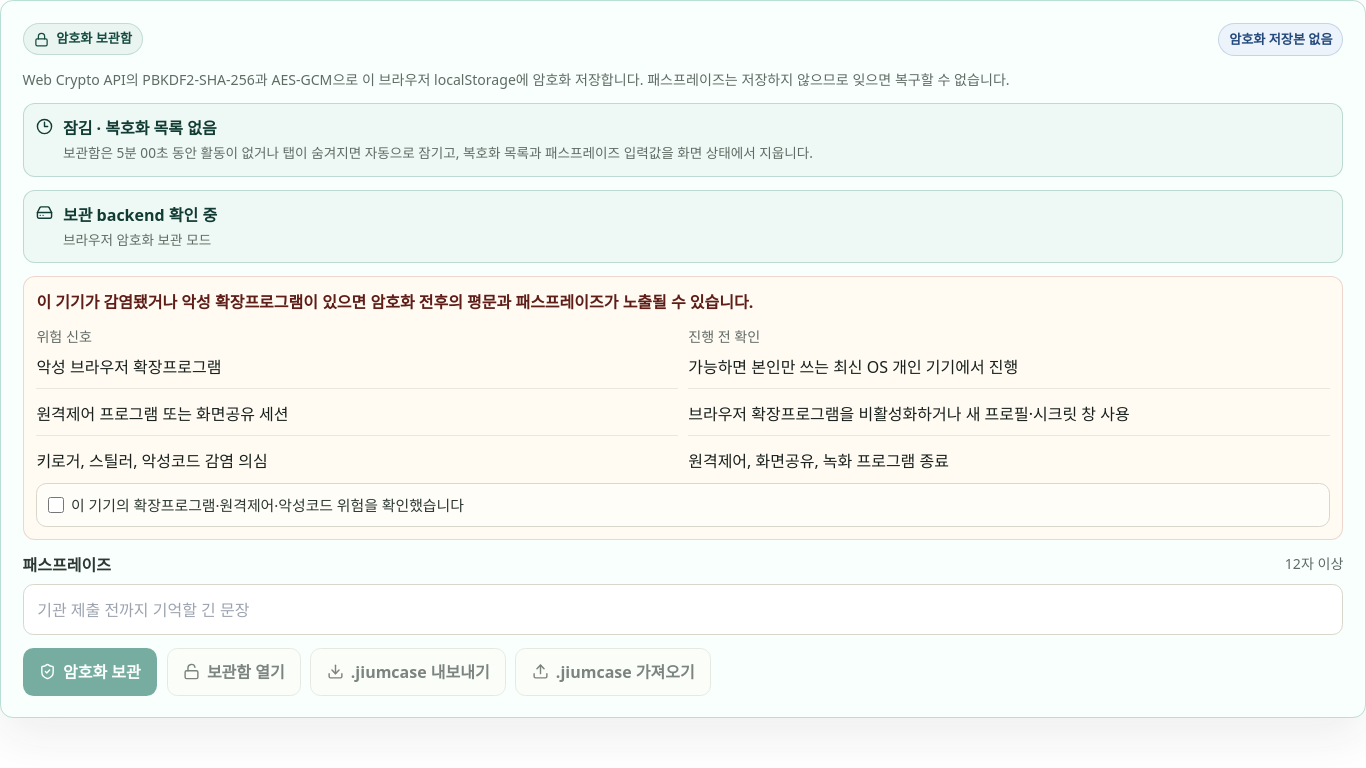
Test case: EncryptedVaultPanel › clears decrypted cases and passphrase when the user locks the vault
Step 1. Click the checkbox labelled "이 기기의 확장프로그램·원격제어·악성코드 위험을 확인했습니다" → (56, 505), box left=48, top=497, right=64, bottom=513
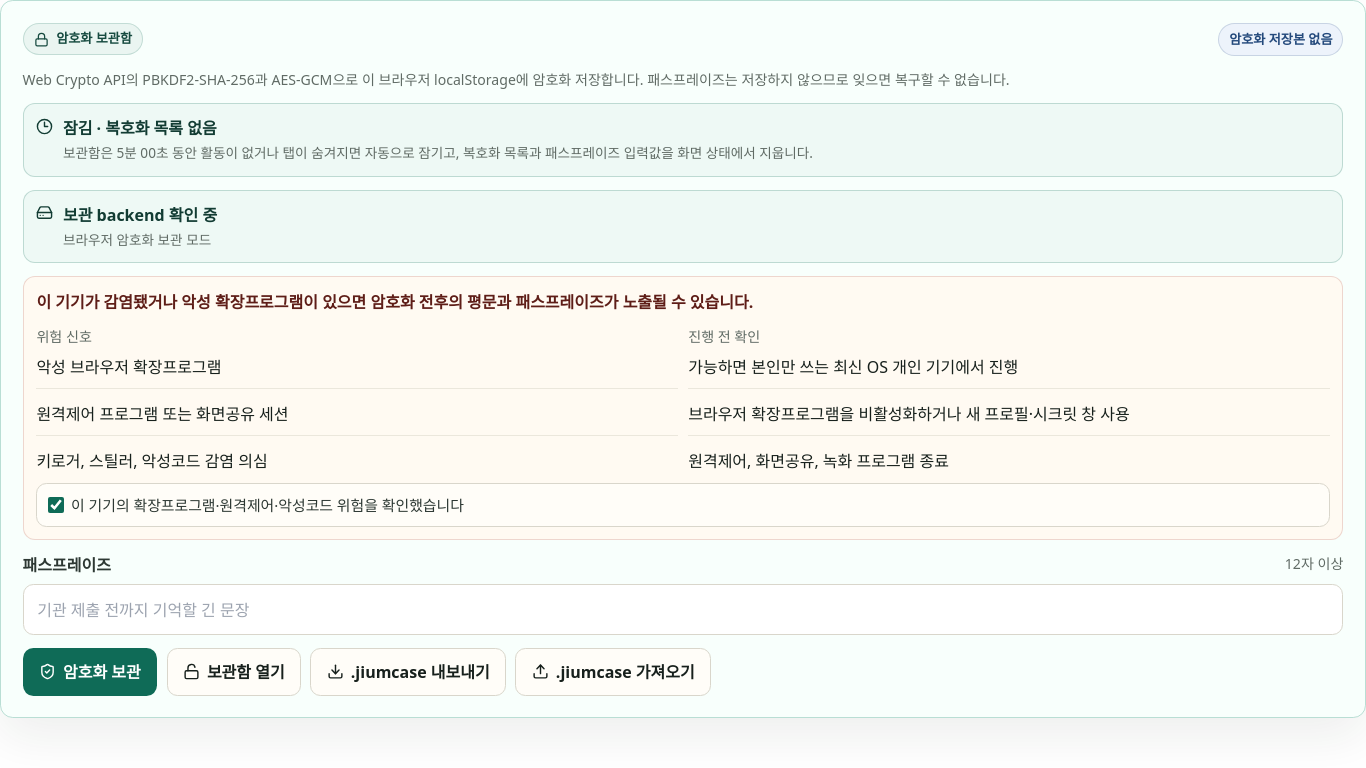
Step 2. Type "long passphrase for vault" into the password field with placeholder "기관 제출 전까지 기억할 긴 문장" → (683, 610), box left=23, top=584, right=1343, bottom=635
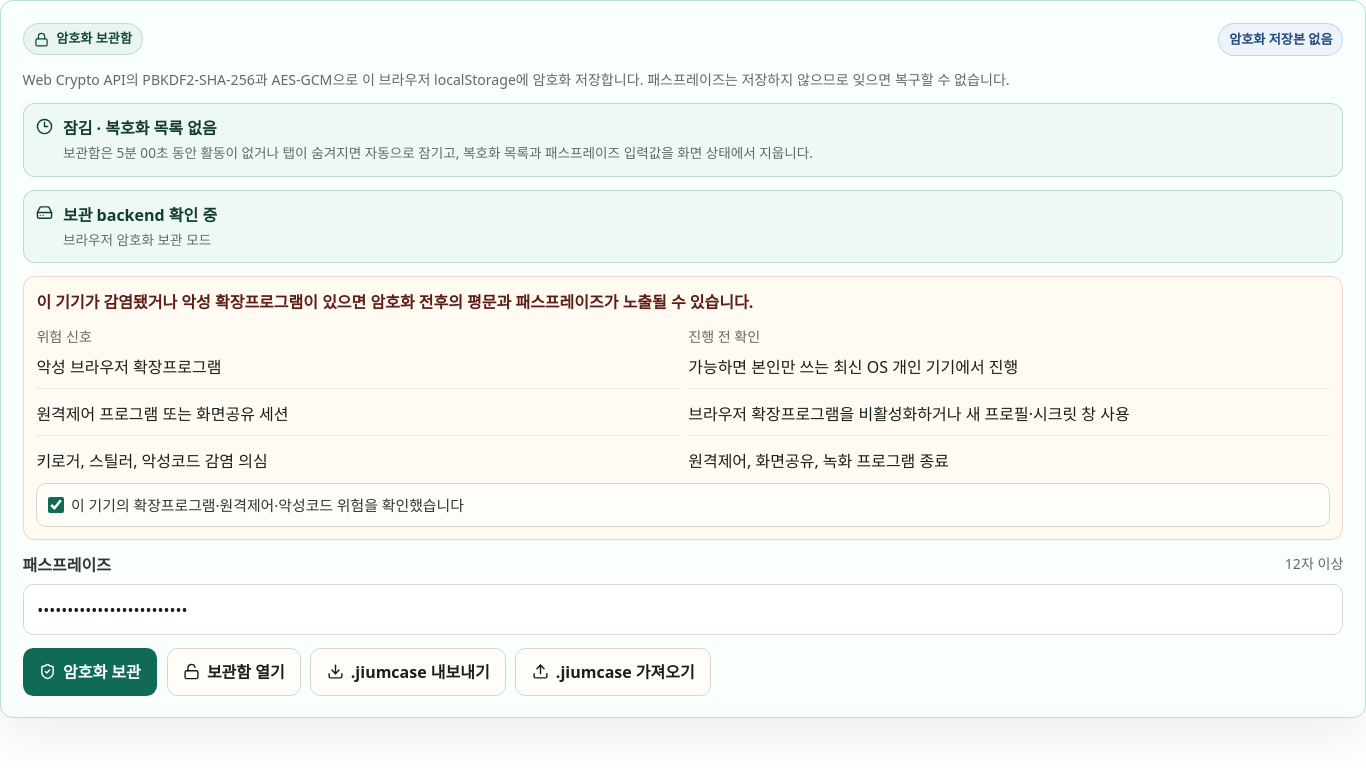
Step 3. Click the button "암호화 보관" → (90, 672), box left=23, top=648, right=157, bottom=696
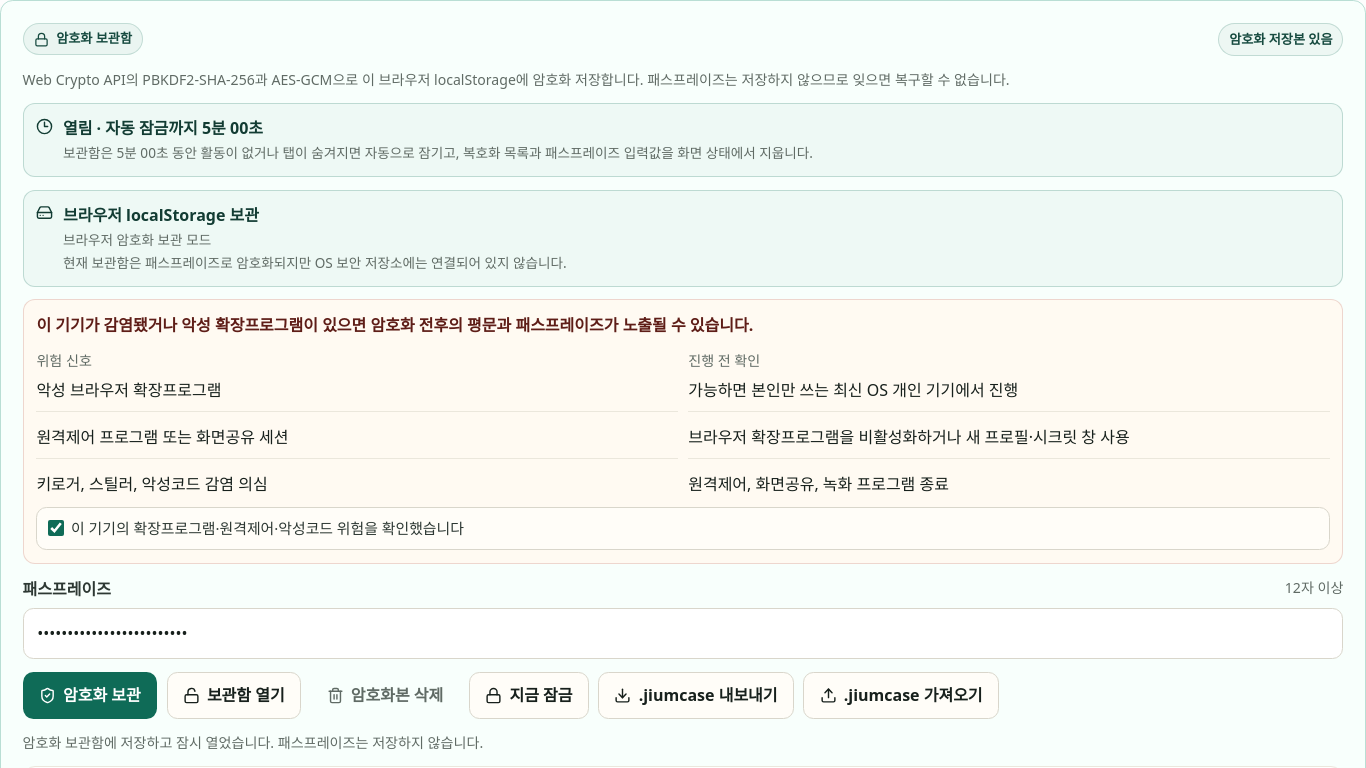
Expected: the text "열림 · 자동 잠금까지 5분 00초" is shown, left=63, top=117, right=263, bottom=139
Step 4. Click the button "지금 잠금" → (529, 696), box left=469, top=672, right=589, bottom=719
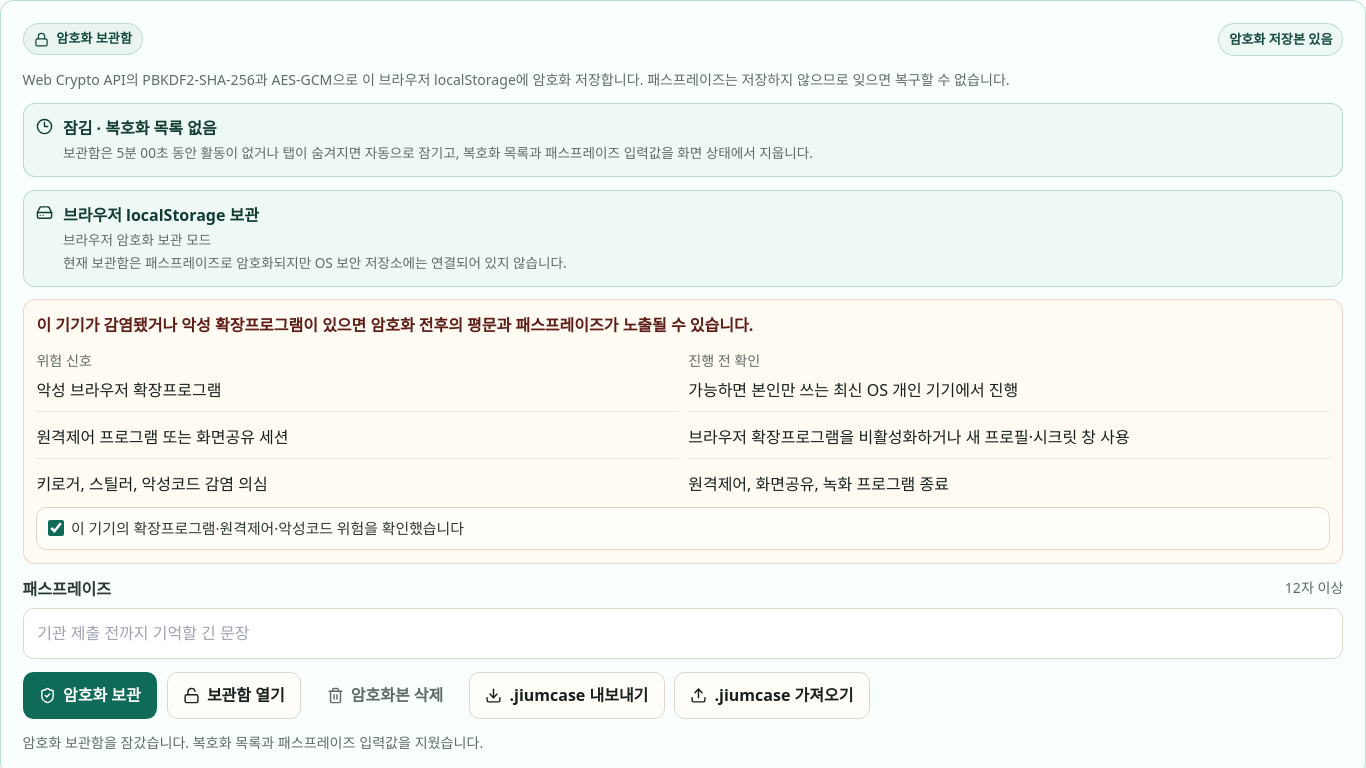
Expected: the text "잠김 · 복호화 목록 없음" is shown, left=63, top=117, right=217, bottom=139
Expected: the password field with placeholder "기관 제출 전까지 기억할 긴 문장" is empty, left=23, top=608, right=1343, bottom=659
